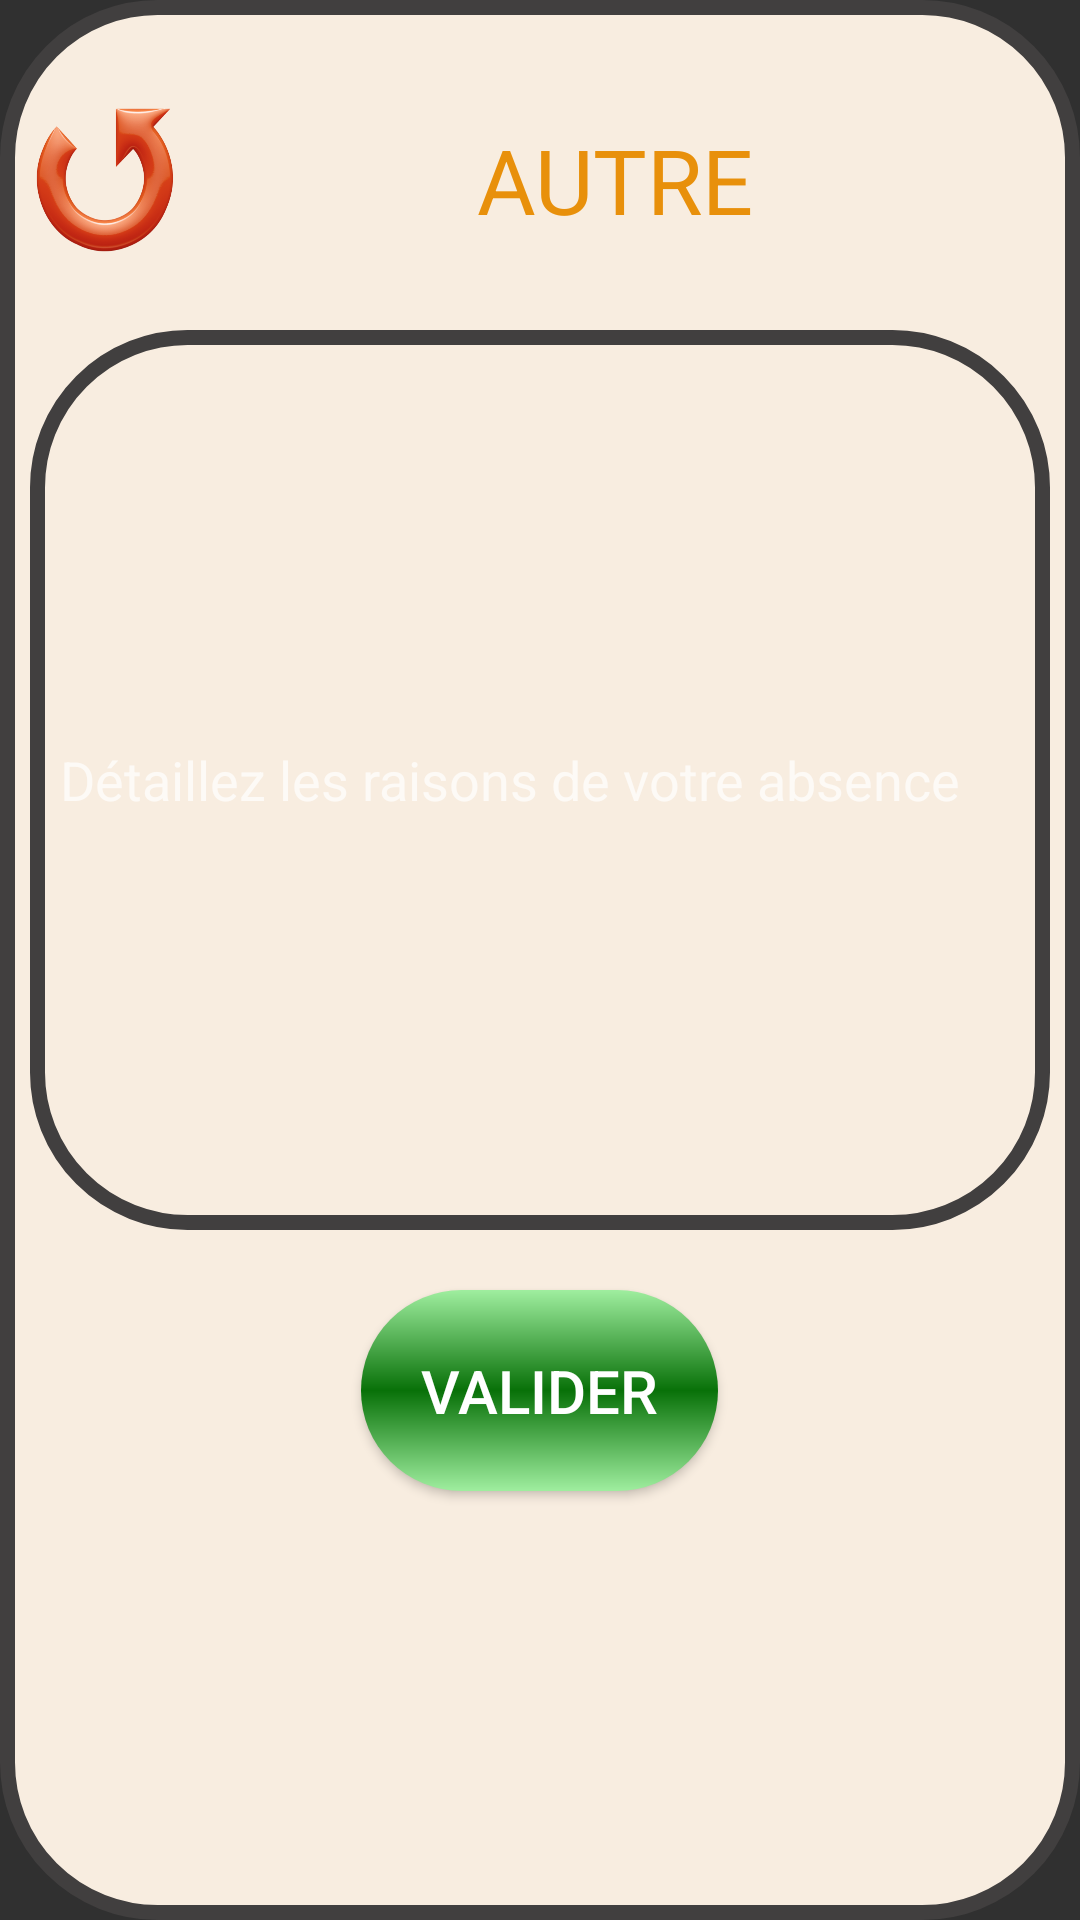

Where to tap for icons on this 1080px x 1920px app screen, as (x=x, y=y):
retour: (x=105, y=180)
